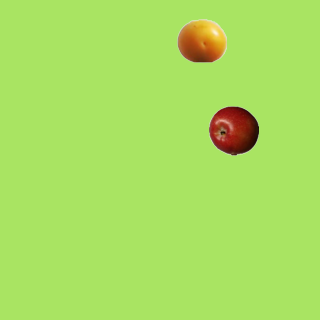Apple Braeburn: (208, 105, 258, 155)
Cherry Wax Yellow: (176, 15, 226, 65)
